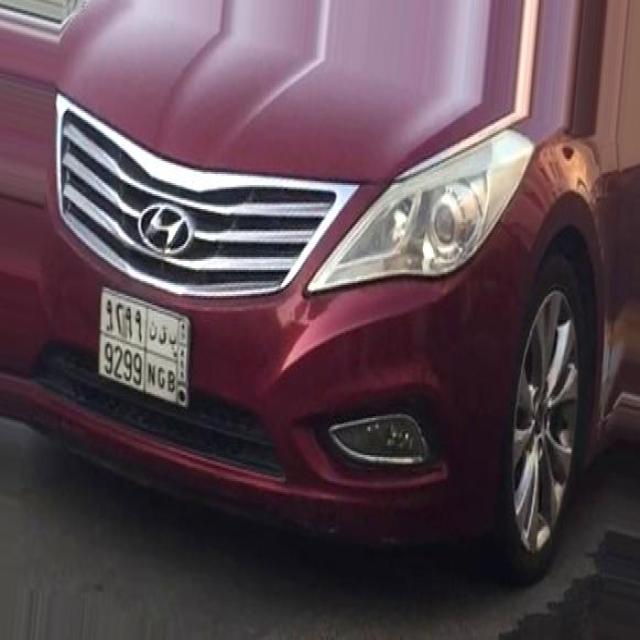Car-plate: (88, 269, 202, 423)
